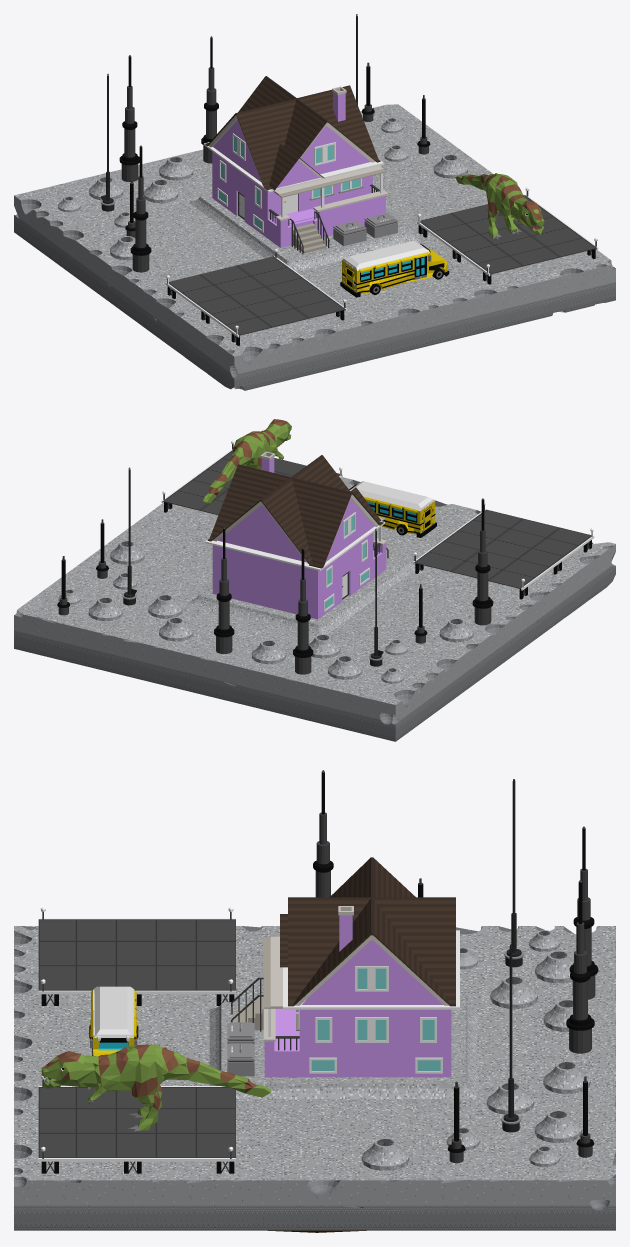
3 renders of one model, top to bottom at view 1: azimuth 30°, elevation 25°; view 2: azimuth 150°, elevation 25°; view 3: azimuth 270°, elevation 25°, orthographic. The views are drawn at different scales.
Parts seen in each view (by area): view 1: Cube.027, Cube.391, Cube.025, Cube.026, Cube.028, VEHICLES_SCHOOL_BUS, ANIMAL_TREX, Cylinder.021, Cylinder.020, Cylinder.017, Cube.029, Cube.030 (+4 smaller); view 2: Cube.027, Cube.391, Cube.025, Cube.028, VEHICLES_SCHOOL_BUS, Cube.026, ANIMAL_TREX, Cylinder.021, Cylinder.020, Cylinder.017, Cylinder.030, Cylinder.028 (+8 smaller); view 3: Cube.027, Cube.391, Cube.025, Cube.026, Cube.028, ANIMAL_TREX, VEHICLES_SCHOOL_BUS, Cylinder.017, Cylinder.020, Cylinder.021, Cylinder.033, Cylinder.031 (+10 smaller).
Part boxes in pixels (bbox=[...]): Cube.027: bbox=[14, 104, 615, 390]; Cube.391: bbox=[203, 76, 388, 254]; Cube.025: bbox=[165, 249, 347, 345]; Cube.026: bbox=[417, 187, 598, 284]; Cube.028: bbox=[190, 193, 420, 271]; VEHICLES_SCHOOL_BUS: bbox=[340, 240, 449, 297]; ANIMAL_TREX: bbox=[455, 173, 544, 239]; Cylinder.021: bbox=[130, 145, 151, 272]; Cylinder.020: bbox=[119, 55, 139, 181]; Cylinder.017: bbox=[201, 36, 218, 163]; Cube.029: bbox=[333, 220, 366, 245]; Cube.030: bbox=[364, 213, 397, 238]; Cube.027: bbox=[14, 477, 615, 741]; Cube.391: bbox=[205, 451, 388, 619]; Cube.025: bbox=[413, 502, 594, 599]; Cube.028: bbox=[188, 554, 415, 635]; VEHICLES_SCHOOL_BUS: bbox=[349, 481, 436, 537]; Cube.026: bbox=[161, 440, 342, 515]; ANIMAL_TREX: bbox=[203, 419, 291, 503]; Cylinder.021: bbox=[472, 498, 493, 625]; Cylinder.020: bbox=[293, 547, 313, 674]; Cylinder.017: bbox=[214, 527, 234, 653]; Cylinder.030: bbox=[148, 594, 182, 618]; Cylinder.028: bbox=[328, 655, 362, 679]; Cube.027: bbox=[14, 926, 615, 1230]; Cube.391: bbox=[231, 857, 459, 1077]; Cube.025: bbox=[38, 907, 235, 1005]; Cube.026: bbox=[38, 1075, 235, 1173]; Cube.028: bbox=[209, 1002, 477, 1098]; ANIMAL_TREX: bbox=[41, 1044, 271, 1131]; VEHICLES_SCHOOL_BUS: bbox=[89, 986, 138, 1056]; Cylinder.017: bbox=[566, 880, 594, 1053]; Cylinder.020: bbox=[569, 826, 598, 999]; Cylinder.021: bbox=[313, 770, 333, 897]; Cylinder.033: bbox=[361, 1138, 409, 1170]; Cylinder.031: bbox=[534, 1110, 582, 1142].
Size of the model in its own units: 4000 by 1865 by 4000.
39 materials, 4 textured.
